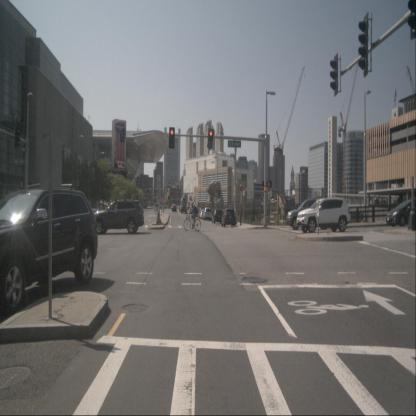movable_object-barrier: (156, 206, 161, 224)
vehicle-bicycle: (183, 202, 201, 231)
vehicle-car: (0, 190, 99, 314), (92, 198, 145, 237), (287, 197, 340, 234), (296, 197, 350, 232), (387, 199, 415, 231), (222, 208, 236, 228), (212, 208, 224, 224), (203, 207, 212, 221), (199, 209, 207, 219), (172, 204, 177, 212)
